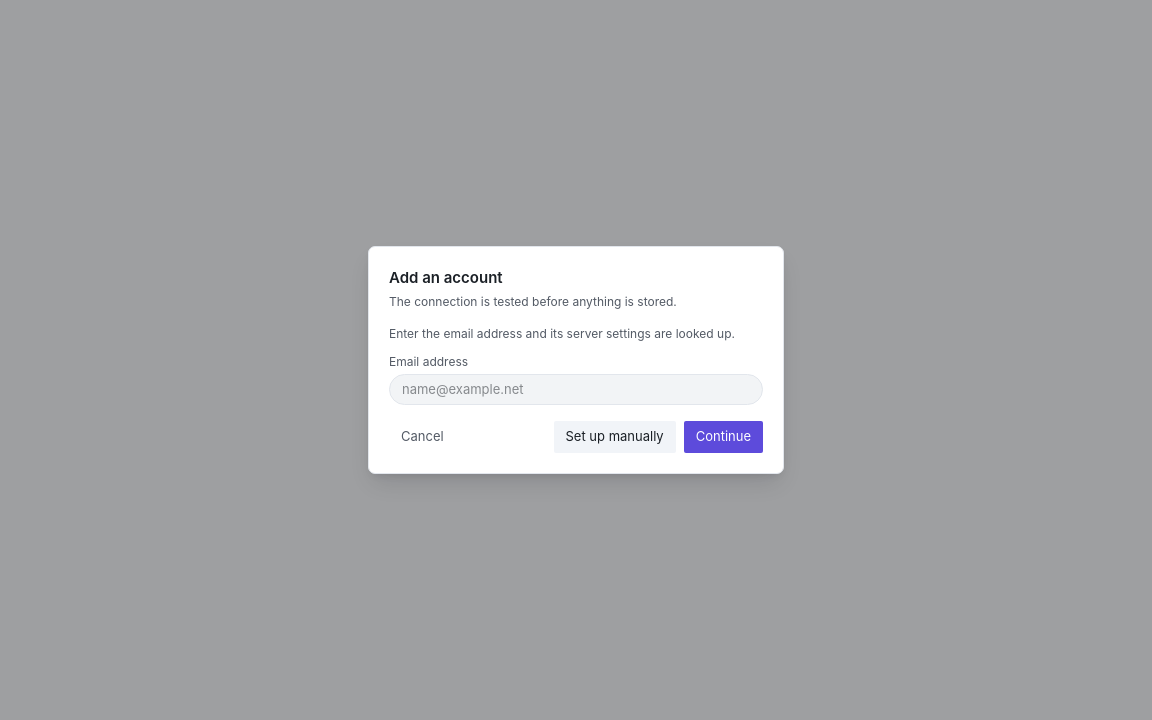
the manual setup flow › assures the password goes to the system keychain
Click the button "Set up manually" at x=615, y=437, box left=554, top=421, right=676, bottom=453
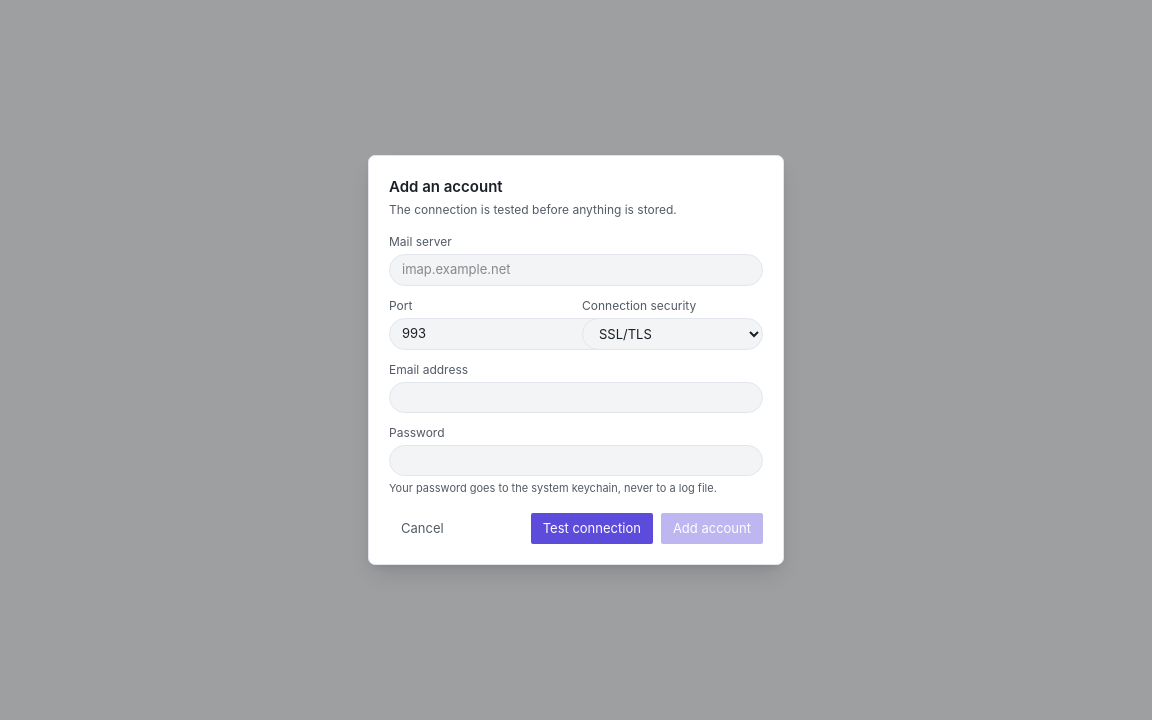
Check: the text "Your password goes to the system keychain, never to a log file." is shown, box left=389, top=480, right=763, bottom=497
